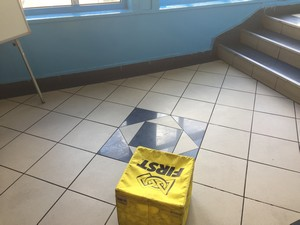cube: (111, 148, 196, 225)
